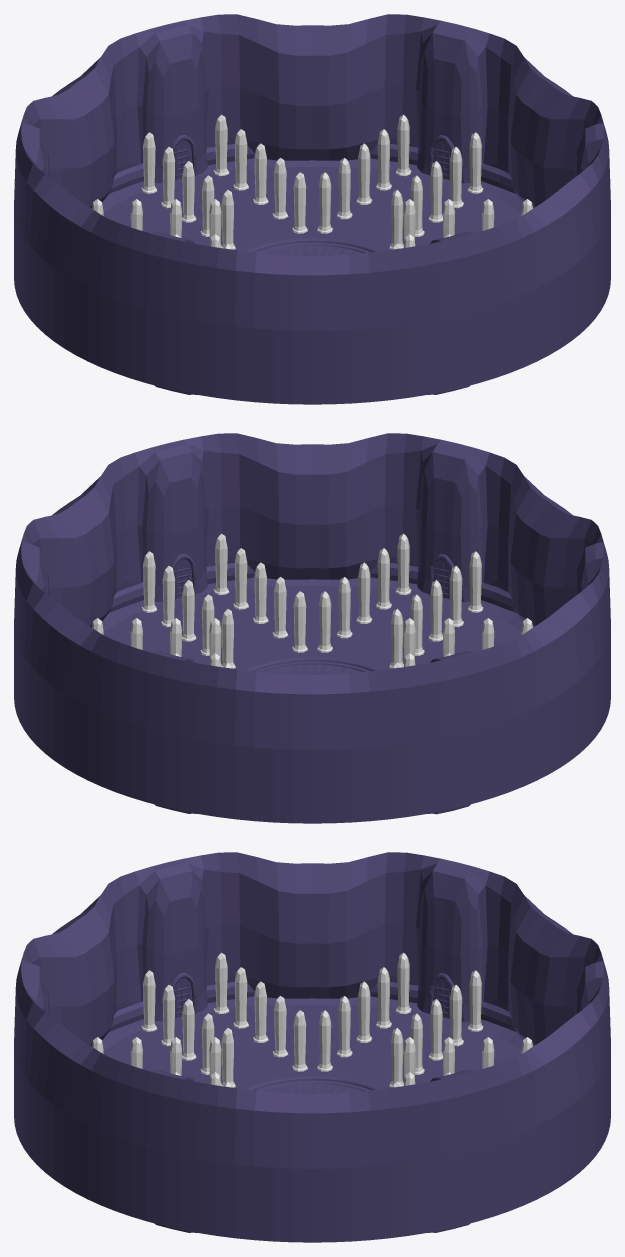
Rendered from boss1f.fbx.
The picture shows the model from 3 angles, top to bottom: view 1: azimuth 30°, elevation 25°; view 2: azimuth 150°, elevation 25°; view 3: azimuth 270°, elevation 25°; orthographic projection.
Parts seen in each view (by area): view 1: Circle, Cube, Cylinder, door; view 2: Circle, Cube, Cylinder, door; view 3: Circle, Cube, Cylinder, door.
Part boxes in pixels (x1,y1,x2,y2): Circle: (14,14,610,404); Cube: (92,114,532,249); Cylinder: (109,144,515,193); door: (171,135,454,180); Circle: (14,433,610,823); Cube: (92,533,532,668); Cylinder: (109,563,515,612); door: (171,554,454,599); Circle: (14,852,610,1242); Cube: (92,952,532,1087); Cylinder: (109,982,515,1031); door: (171,973,454,1018).
Size of the model in its own units: 210 by 62.07 by 210.
